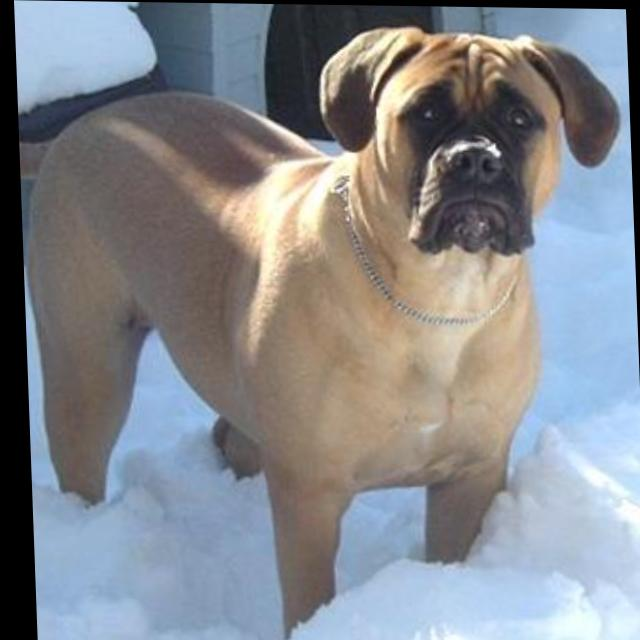bullmastiff: (16, 19, 637, 640)
